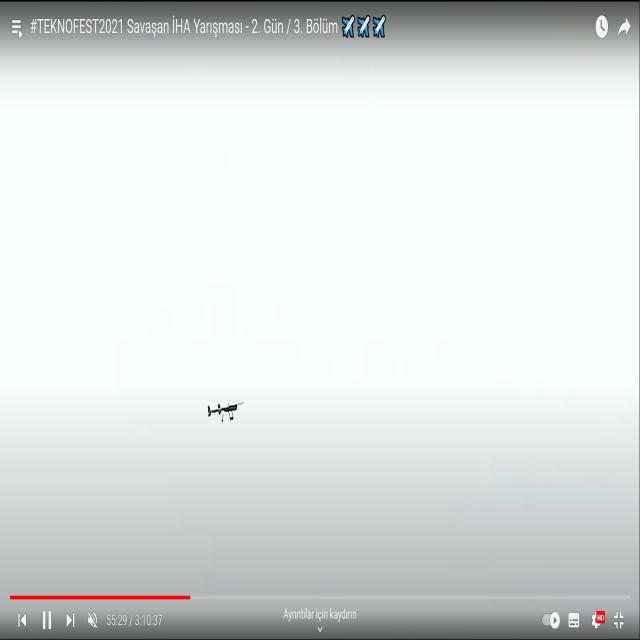iha: (207, 400, 244, 425)
